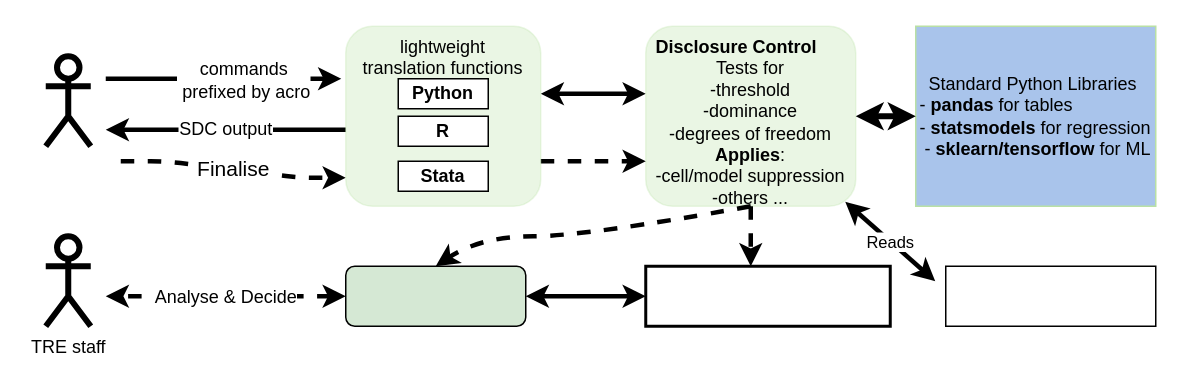
The diagram is 1182 pixels wide and 384 high, and some of its shapes have lost their labels. The centre of each missing label's shape, as x and y in pixels:
"detailed analysis of output requests" belongs at point (767, 295).
"researcher" belongs at point (67, 100).
"TRE Interface" belongs at point (435, 295).
"TRE-specific file detailing risk appetite" belongs at point (1050, 295).
